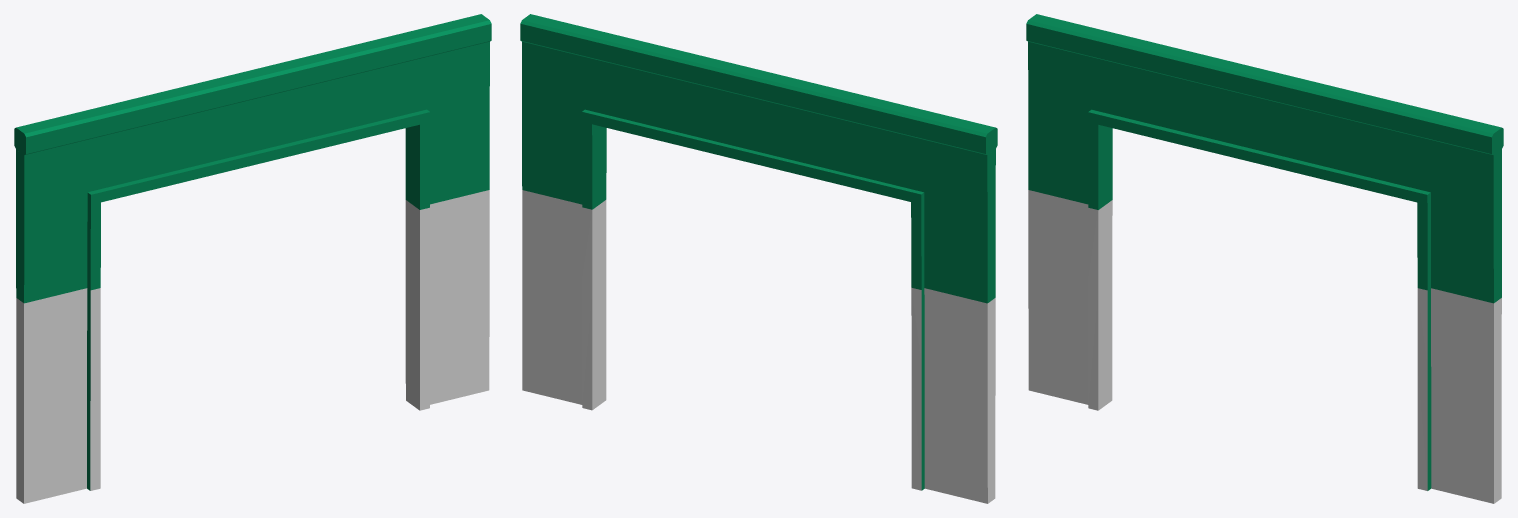
The model's file is wall_18.fbx.
The picture shows the model from 3 angles, left to right: view 1: azimuth 30°, elevation 25°; view 2: azimuth 150°, elevation 25°; view 3: azimuth 330°, elevation 25°; orthographic projection.
Visible parts, largest first — view 1: WALL_4.002; view 2: WALL_4.002; view 3: WALL_4.002.
Boxes of the visible parts, box(x1,y1,x2,y2) form: WALL_4.002: box(14, 14, 491, 503); WALL_4.002: box(520, 14, 997, 503); WALL_4.002: box(1026, 14, 1503, 503).
Size of the model in its own units: 6.34 by 4.83 by 0.3452.
